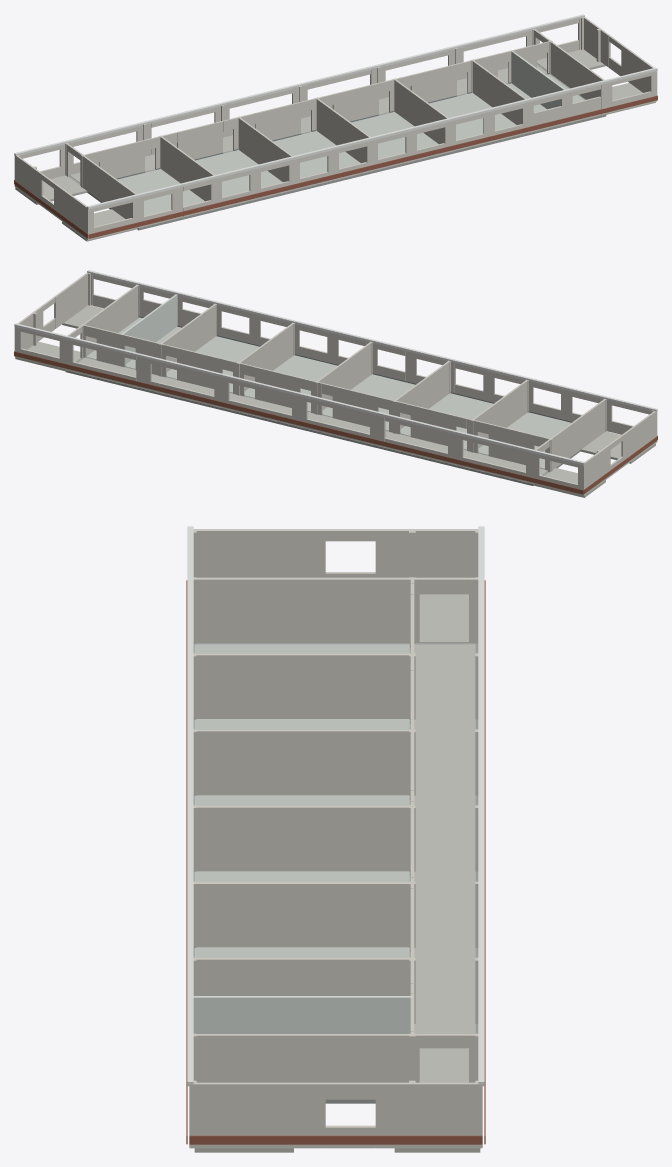
The model's file is floor-03.shell.glb.
3 renders of one model, top to bottom at view 1: azimuth 30°, elevation 25°; view 2: azimuth 150°, elevation 25°; view 3: azimuth 270°, elevation 25°, orthographic. The views are drawn at different scales.
Visible parts, largest first — view 1: Floor_03_StructureShell__Plaster_WarmLimestone, Floor_03_StructureShell__tile_floor, Floor_03_StructureShell__Paint_OffWhite, Floor_03_StructureShell__Terracotta_FiredClay, Floor_03_StructureShell__terrazzo, Floor_03_StructureShell__Concrete_FineCast, Floor_03_StructureShell__tile_wall; view 2: Floor_03_StructureShell__Plaster_WarmLimestone, Floor_03_StructureShell__tile_floor, Floor_03_StructureShell__Paint_OffWhite, Floor_03_StructureShell__terrazzo, Floor_03_StructureShell__Terracotta_FiredClay, Floor_03_StructureShell__Concrete_FineCast, Floor_03_StructureShell__tile_wall, Floor_03_StructureShell__Paint_Slate; view 3: Floor_03_StructureShell__Plaster_WarmLimestone, Floor_03_StructureShell__terrazzo, Floor_03_StructureShell__tile_floor, Floor_03_StructureShell__tile_wall, Floor_03_StructureShell__Paint_OffWhite, Floor_03_StructureShell__Terracotta_FiredClay, Floor_03_StructureShell__Concrete_FineCast.
Part boxes in pixels (x1=…): Floor_03_StructureShell__Plaster_WarmLimestone: x1=14, y1=17, x2=657, y2=240; Floor_03_StructureShell__tile_floor: x1=117, y1=74, x2=584, y2=215; Floor_03_StructureShell__Paint_OffWhite: x1=14, y1=14, x2=657, y2=209; Floor_03_StructureShell__Terracotta_FiredClay: x1=14, y1=95, x2=657, y2=238; Floor_03_StructureShell__terrazzo: x1=15, y1=49, x2=655, y2=241; Floor_03_StructureShell__Concrete_FineCast: x1=69, y1=63, x2=606, y2=230; Floor_03_StructureShell__tile_wall: x1=511, y1=50, x2=565, y2=109; Floor_03_StructureShell__Plaster_WarmLimestone: x1=14, y1=272, x2=657, y2=495; Floor_03_StructureShell__tile_floor: x1=87, y1=317, x2=571, y2=468; Floor_03_StructureShell__Paint_OffWhite: x1=14, y1=270, x2=657, y2=465; Floor_03_StructureShell__terrazzo: x1=15, y1=305, x2=655, y2=497; Floor_03_StructureShell__Terracotta_FiredClay: x1=14, y1=351, x2=657, y2=494; Floor_03_StructureShell__Concrete_FineCast: x1=65, y1=317, x2=580, y2=485; Floor_03_StructureShell__tile_wall: x1=121, y1=294, x2=177, y2=363; Floor_03_StructureShell__Paint_Slate: x1=86, y1=316, x2=572, y2=452; Floor_03_StructureShell__Plaster_WarmLimestone: x1=189, y1=529, x2=482, y2=1148; Floor_03_StructureShell__terrazzo: x1=194, y1=594, x2=480, y2=1152; Floor_03_StructureShell__tile_floor: x1=194, y1=644, x2=409, y2=957; Floor_03_StructureShell__tile_wall: x1=193, y1=996, x2=412, y2=1033; Floor_03_StructureShell__Paint_OffWhite: x1=187, y1=526, x2=484, y2=1086; Floor_03_StructureShell__Terracotta_FiredClay: x1=186, y1=580, x2=485, y2=1144; Floor_03_StructureShell__Concrete_FineCast: x1=194, y1=643, x2=478, y2=1103.
Size of the model in its own units: 62.87 by 3.78 by 14.31.
